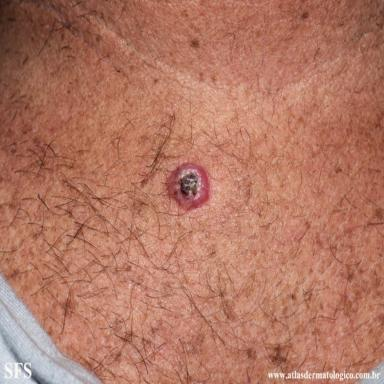basal-cell-carcinoma: (167, 162, 210, 210)
